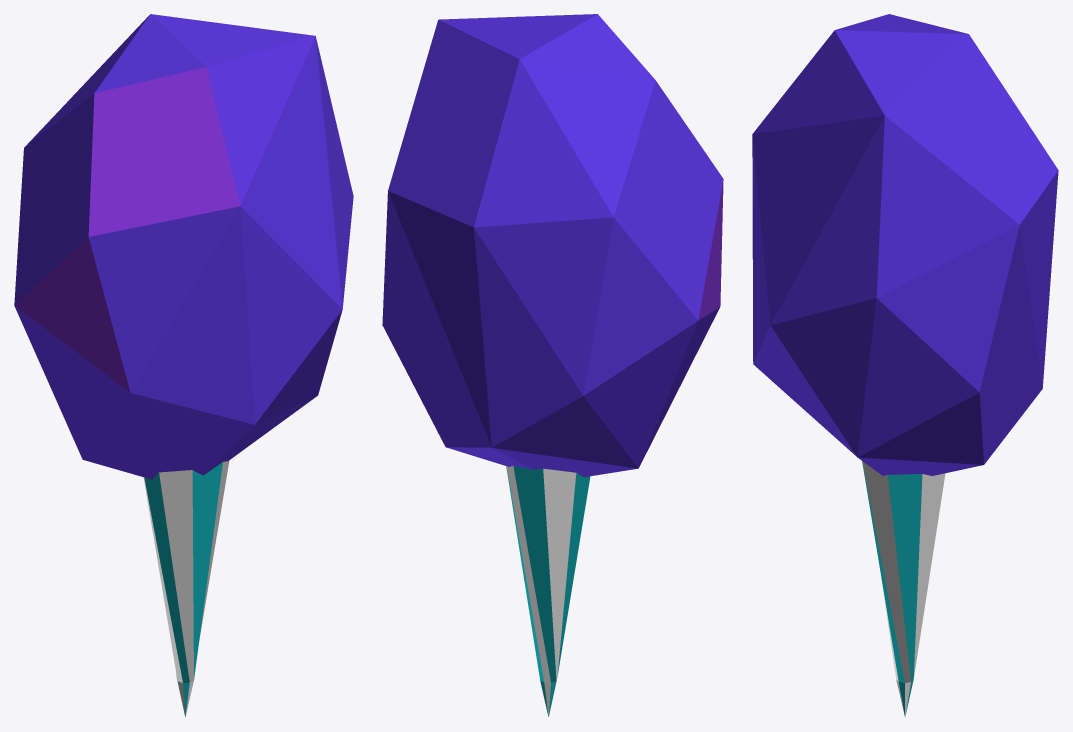
The model's file is Food_CottonCandy02.fbx.
3 renders of one model, left to right at view 1: azimuth 30°, elevation 25°; view 2: azimuth 150°, elevation 25°; view 3: azimuth 270°, elevation 25°, orthographic.
Parts seen in each view (by area): view 1: Cone; view 2: Cone; view 3: Cone.
Boxes of the visible parts, left/top/right/bottom form: Cone: left=14, top=14, right=353, bottom=717; Cone: left=382, top=14, right=723, bottom=716; Cone: left=752, top=14, right=1058, bottom=717.
Size of the model in its own units: 29.52 by 61.15 by 24.86.
